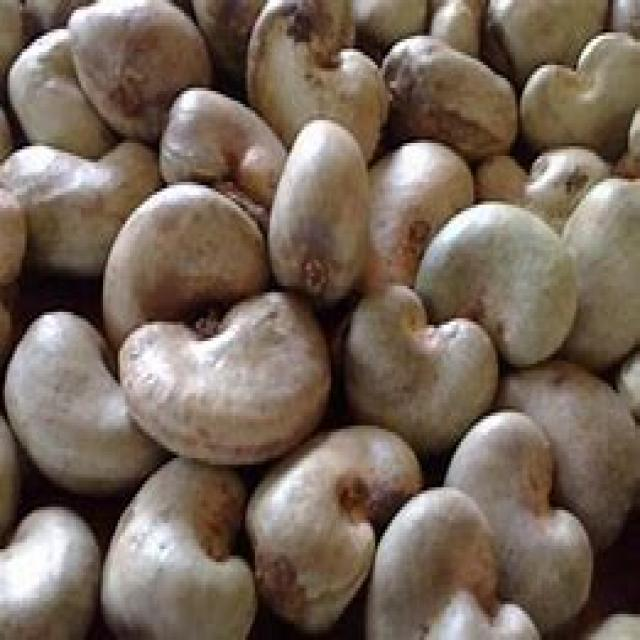Cashew: (9, 326, 149, 493), (142, 306, 309, 445), (367, 268, 491, 420), (264, 452, 374, 617), (115, 181, 249, 298), (394, 488, 496, 640), (120, 467, 218, 620), (496, 428, 579, 608), (279, 119, 364, 282), (534, 32, 640, 159), (481, 208, 567, 354), (171, 78, 263, 180), (402, 24, 468, 126)
